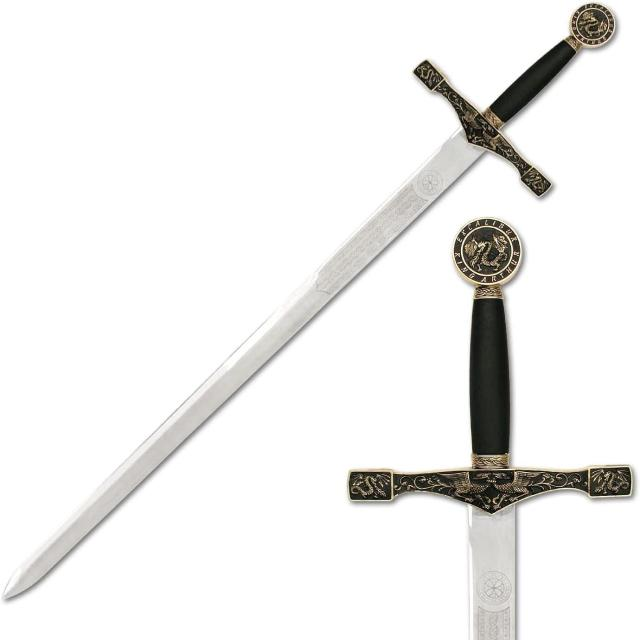weapon: (0, 1, 622, 608)
